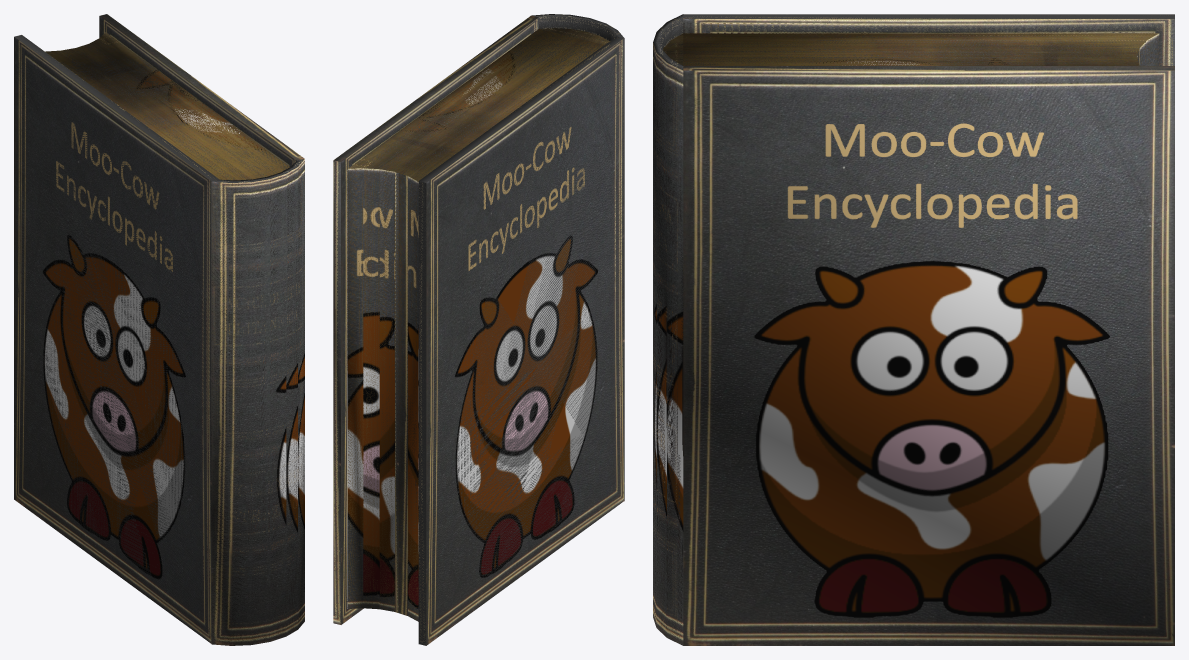
Rendered from moo_cow_encyclopedia.fbx.
The picture shows the model from 3 angles, left to right: view 1: azimuth 30°, elevation 25°; view 2: azimuth 150°, elevation 25°; view 3: azimuth 270°, elevation 25°; orthographic projection. The views are drawn at different scales.
Parts seen in each view (by area): view 1: __ENCYCLOPEDIA_BRITANNICA_04_BOARD_BACK1, __ENCYCLOPEDIA_BRITANNICA_05_SPINE_THICK_1_1, __ENCYCLOPEDIA_BRITANNICA___1889_EDITION_COMPLETE_1_1, FrontPage; view 2: __ENCYCLOPEDIA_BRITANNICA_04_BOARD_BACK1, __ENCYCLOPEDIA_BRITANNICA___1889_EDITION_COMPLETE_1_1, FrontPage, __ENCYCLOPEDIA_BRITANNICA_05_SPINE_THICK_1_1; view 3: FrontPage, __ENCYCLOPEDIA_BRITANNICA_05_SPINE_THICK_1_1, __ENCYCLOPEDIA_BRITANNICA___1889_EDITION_COMPLETE_1_1, __ENCYCLOPEDIA_BRITANNICA_04_BOARD_BACK1.
Boxes of the visible parts, <box> form: __ENCYCLOPEDIA_BRITANNICA_04_BOARD_BACK1: <box>14,35,219,643</box>; __ENCYCLOPEDIA_BRITANNICA_05_SPINE_THICK_1_1: <box>211,159,304,645</box>; __ENCYCLOPEDIA_BRITANNICA___1889_EDITION_COMPLETE_1_1: <box>45,32,289,180</box>; FrontPage: <box>99,14,304,166</box>; __ENCYCLOPEDIA_BRITANNICA_04_BOARD_BACK1: <box>418,36,624,645</box>; __ENCYCLOPEDIA_BRITANNICA___1889_EDITION_COMPLETE_1_1: <box>347,28,609,621</box>; FrontPage: <box>333,15,538,624</box>; __ENCYCLOPEDIA_BRITANNICA_05_SPINE_THICK_1_1: <box>532,14,624,500</box>; FrontPage: <box>683,66,1174,645</box>; __ENCYCLOPEDIA_BRITANNICA_05_SPINE_THICK_1_1: <box>653,14,683,645</box>; __ENCYCLOPEDIA_BRITANNICA___1889_EDITION_COMPLETE_1_1: <box>663,33,1159,65</box>; __ENCYCLOPEDIA_BRITANNICA_04_BOARD_BACK1: <box>683,14,1174,65</box>.
Bounding box in the file's own units: 60 × 284 × 234.
